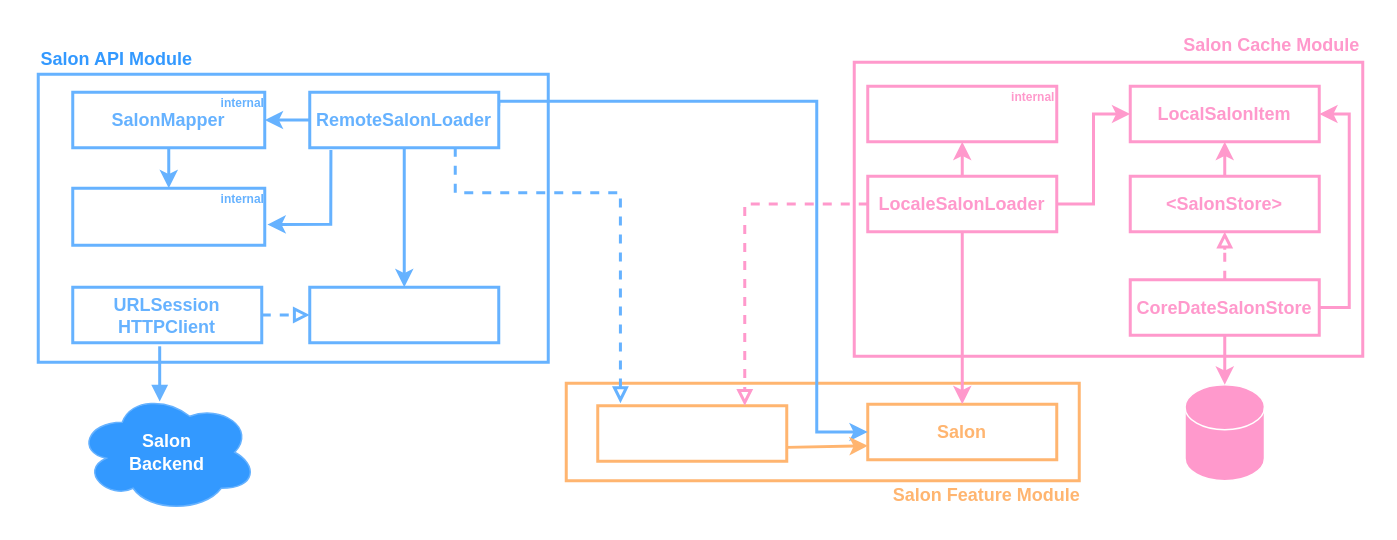
The diagram is 1397 pixels wide and 540 high, and some of its shapes have lost their labels. The box of each missing label's shape, as (x1, y1, x2, y2) in pixels:
<HTTPClient>: (308, 285, 500, 344)
<SalonLoader>: (596, 404, 788, 462)
Core Data: (1184, 383, 1264, 481)
RemoteSalonItem: (70, 186, 266, 246)
SalonCachePolicy: (866, 84, 1058, 142)
